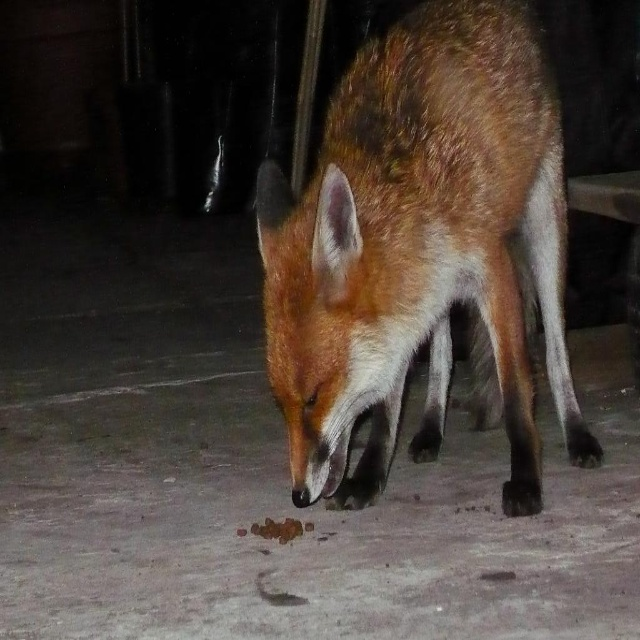Fox: (253, 0, 603, 517)
